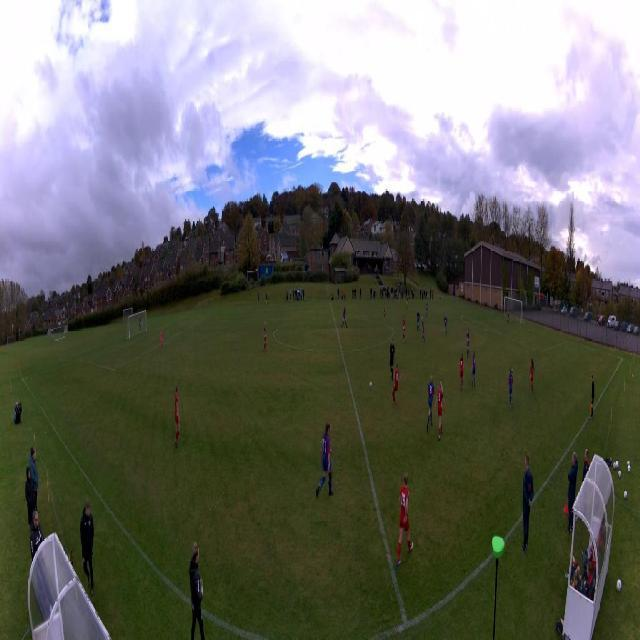ball: (369, 381, 372, 389)
player: (396, 471, 414, 566), (316, 421, 335, 500), (435, 381, 447, 442), (391, 365, 403, 403), (175, 384, 181, 448), (428, 378, 435, 430), (507, 370, 514, 407), (471, 351, 477, 389), (528, 358, 535, 390), (389, 339, 394, 379), (459, 354, 464, 389), (465, 328, 470, 359), (342, 305, 348, 330), (264, 323, 268, 351), (402, 315, 406, 342), (443, 314, 447, 335), (422, 317, 425, 343), (417, 308, 420, 332), (160, 329, 163, 350), (383, 302, 386, 319), (506, 308, 509, 324), (406, 297, 409, 311), (426, 302, 428, 319)
